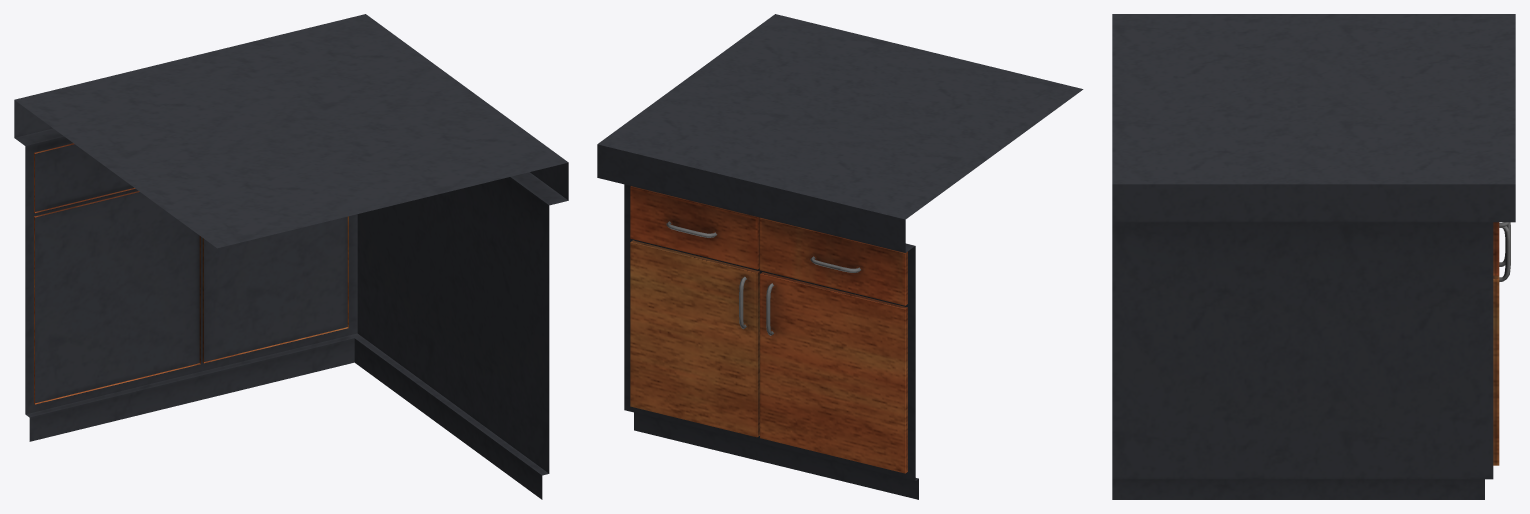
The model's file is CounterRightV2.fbx.
The picture shows the model from 3 angles, left to right: view 1: azimuth 30°, elevation 25°; view 2: azimuth 150°, elevation 25°; view 3: azimuth 270°, elevation 25°; orthographic projection. The views are drawn at different scales.
Visible parts, largest first — view 1: CounterRightV2; view 2: CounterRightV2; view 3: CounterRightV2.
Boxes of the visible parts, bbox=[...] form: CounterRightV2: bbox=[14, 14, 568, 499]; CounterRightV2: bbox=[597, 14, 1083, 499]; CounterRightV2: bbox=[1112, 14, 1515, 499].
Bounding box in the file's own units: 152 × 137 × 152.
